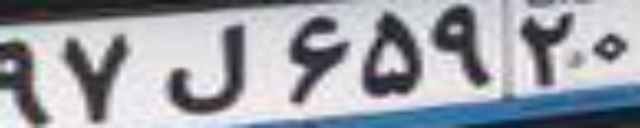0: (587, 32, 632, 63)
2: (518, 13, 578, 86)
5: (359, 11, 425, 98)
6: (282, 14, 352, 104)
7: (64, 35, 134, 121)
9: (430, 2, 490, 88), (0, 41, 48, 124)
lam: (164, 23, 248, 116)
